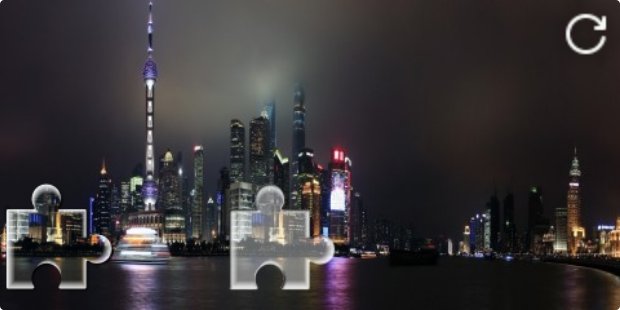target: (230, 184, 334, 289)
